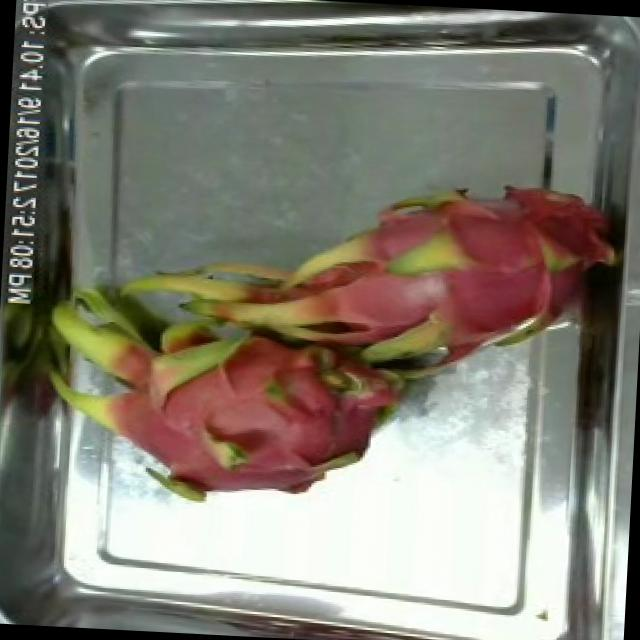Fruit: (148, 307, 244, 370)
